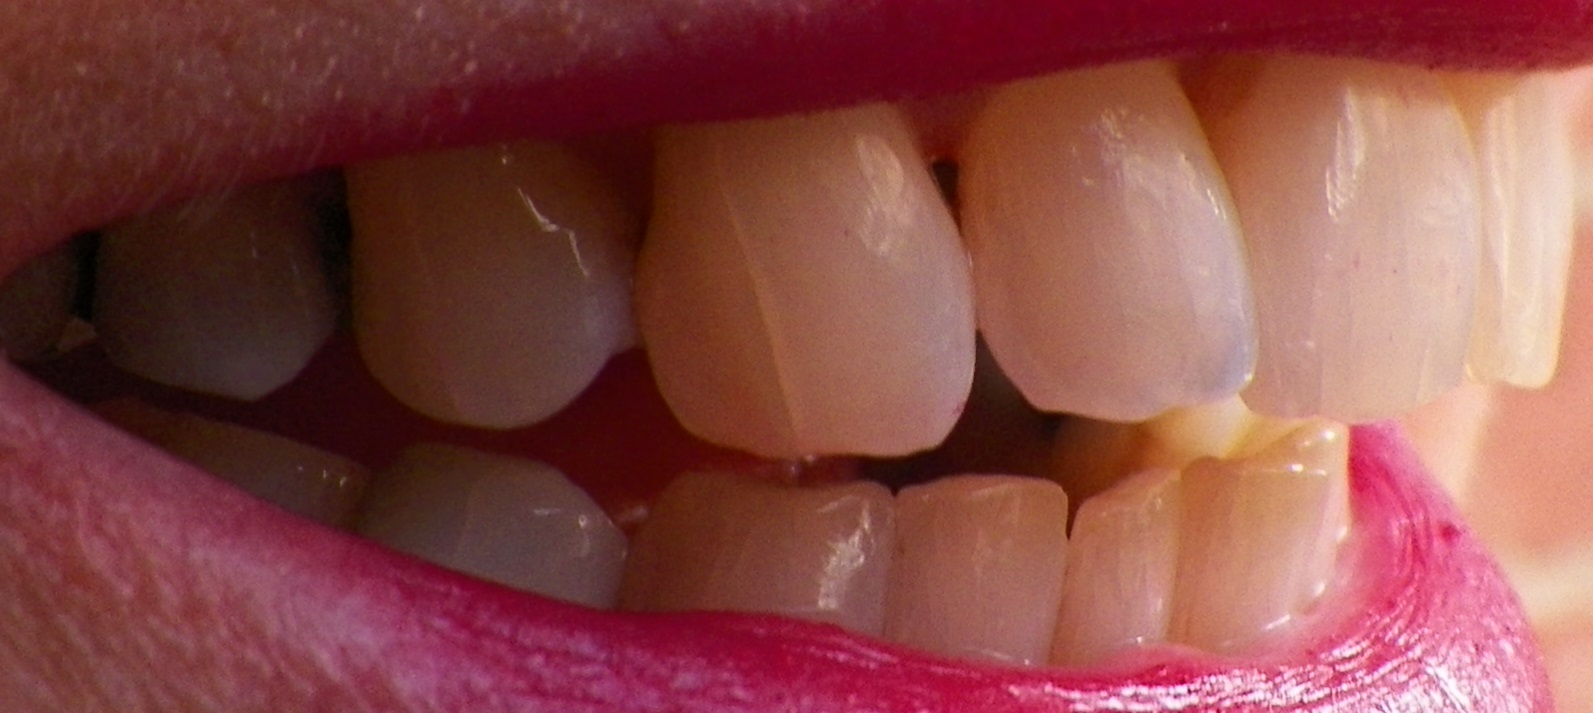boca: (110, 74, 1569, 666)
